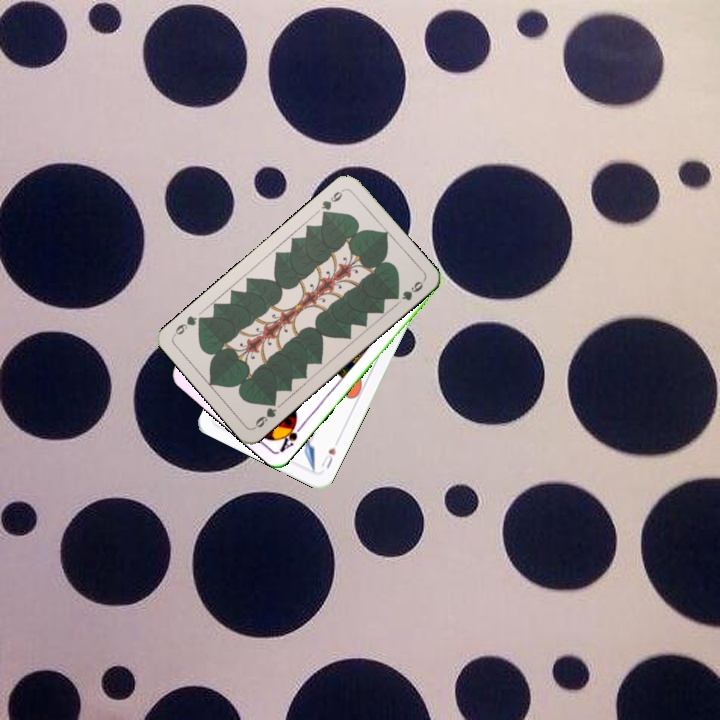G9: (317, 185, 347, 220), (250, 396, 279, 431)
HU: (317, 443, 339, 472)
SA: (275, 416, 306, 455)
